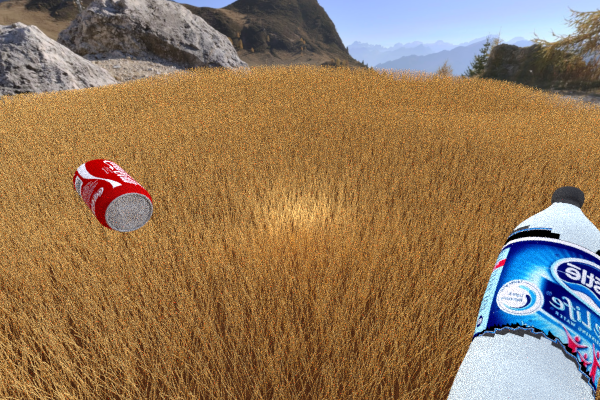bottle: (435, 186, 600, 400)
can: (72, 159, 152, 232)
